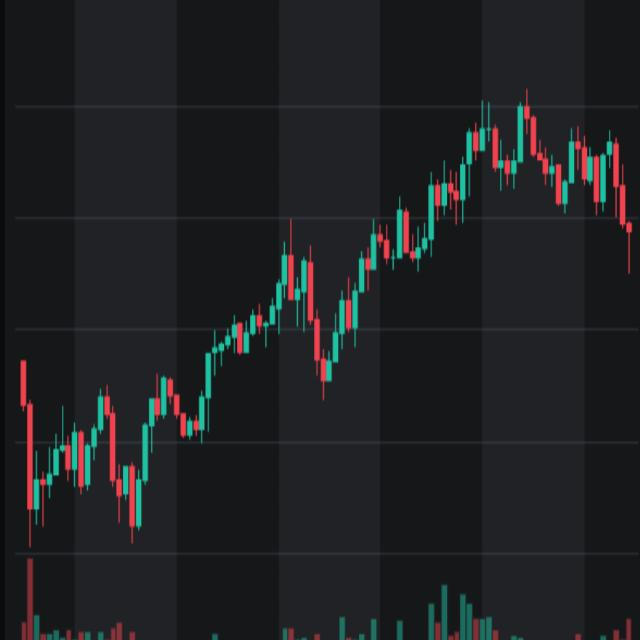Channel-up: (313, 40, 557, 410)
